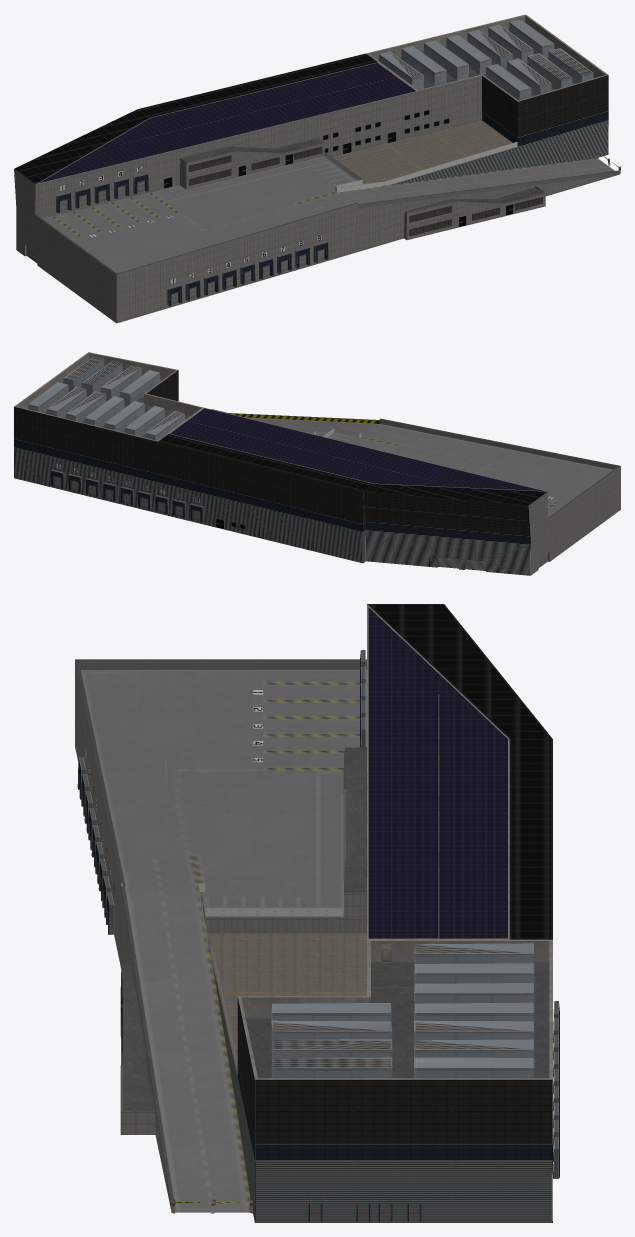
The model's file is building 5.fbx.
3 renders of one model, top to bottom at view 1: azimuth 30°, elevation 25°; view 2: azimuth 150°, elevation 25°; view 3: azimuth 270°, elevation 25°, orthographic. The views are drawn at different scales.
Visible parts, largest first — view 1: model_0; view 2: model_0; view 3: model_0.
Part boxes in pixels (<box>): model_0: <box>14,14,620,323</box>; model_0: <box>14,352,620,575</box>; model_0: <box>75,604,559,1222</box>.
Bounding box in the file's own units: 422 × 60.39 × 182.
Materials: 1 (1 with a texture image).
